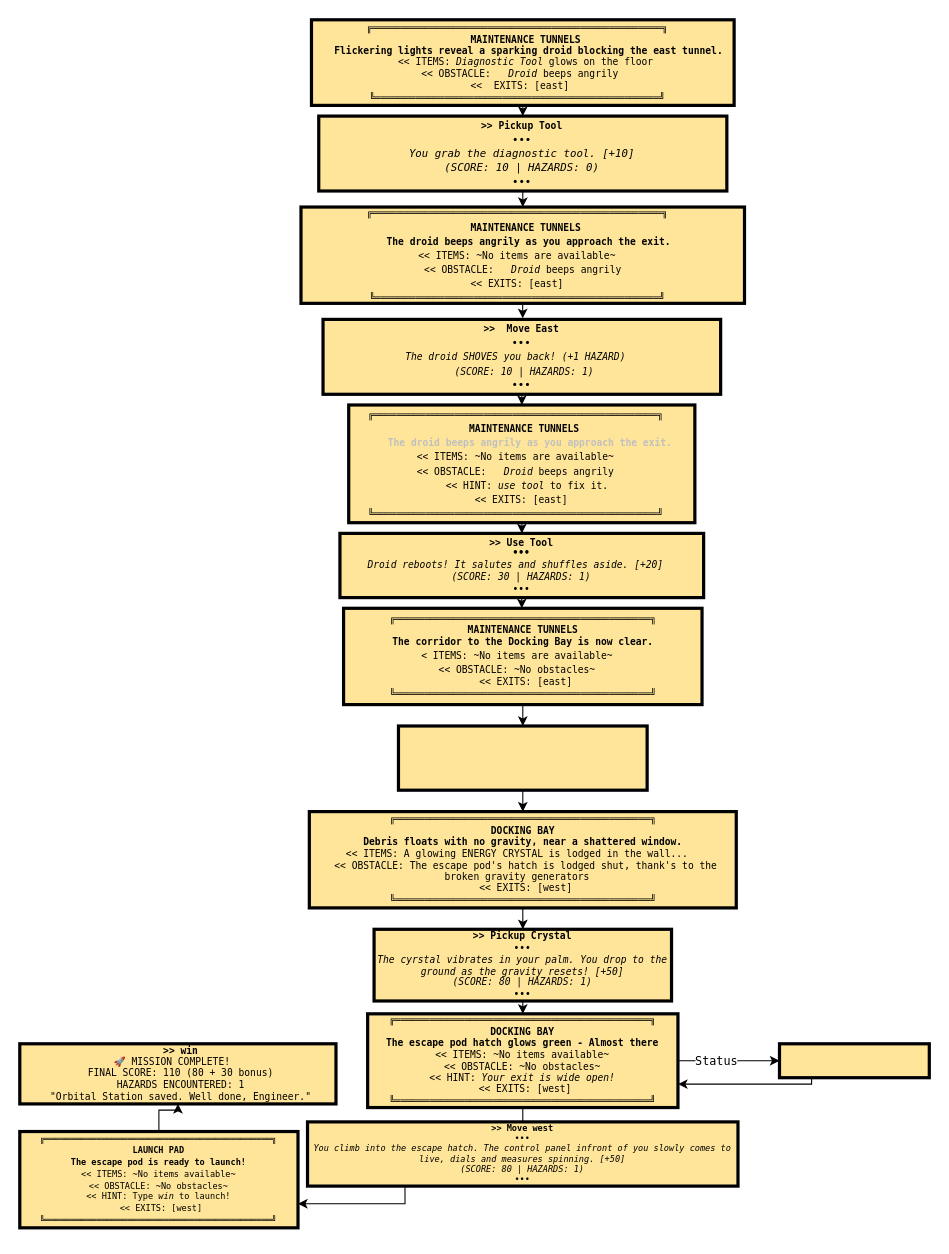
Some shapes in this 949 by 1254 pixel diagram are drawn without their labels. The centre of each missing label's shape, as x and y in pixels:
">> Move East ••• You enter the DOCKING BAY. (SCORE: 30 | HAZARDS: 1) •••" goes at (522,757).
"••• (SCORE: 80 | HAZARDS: 1) •••" goes at (853,1060).
